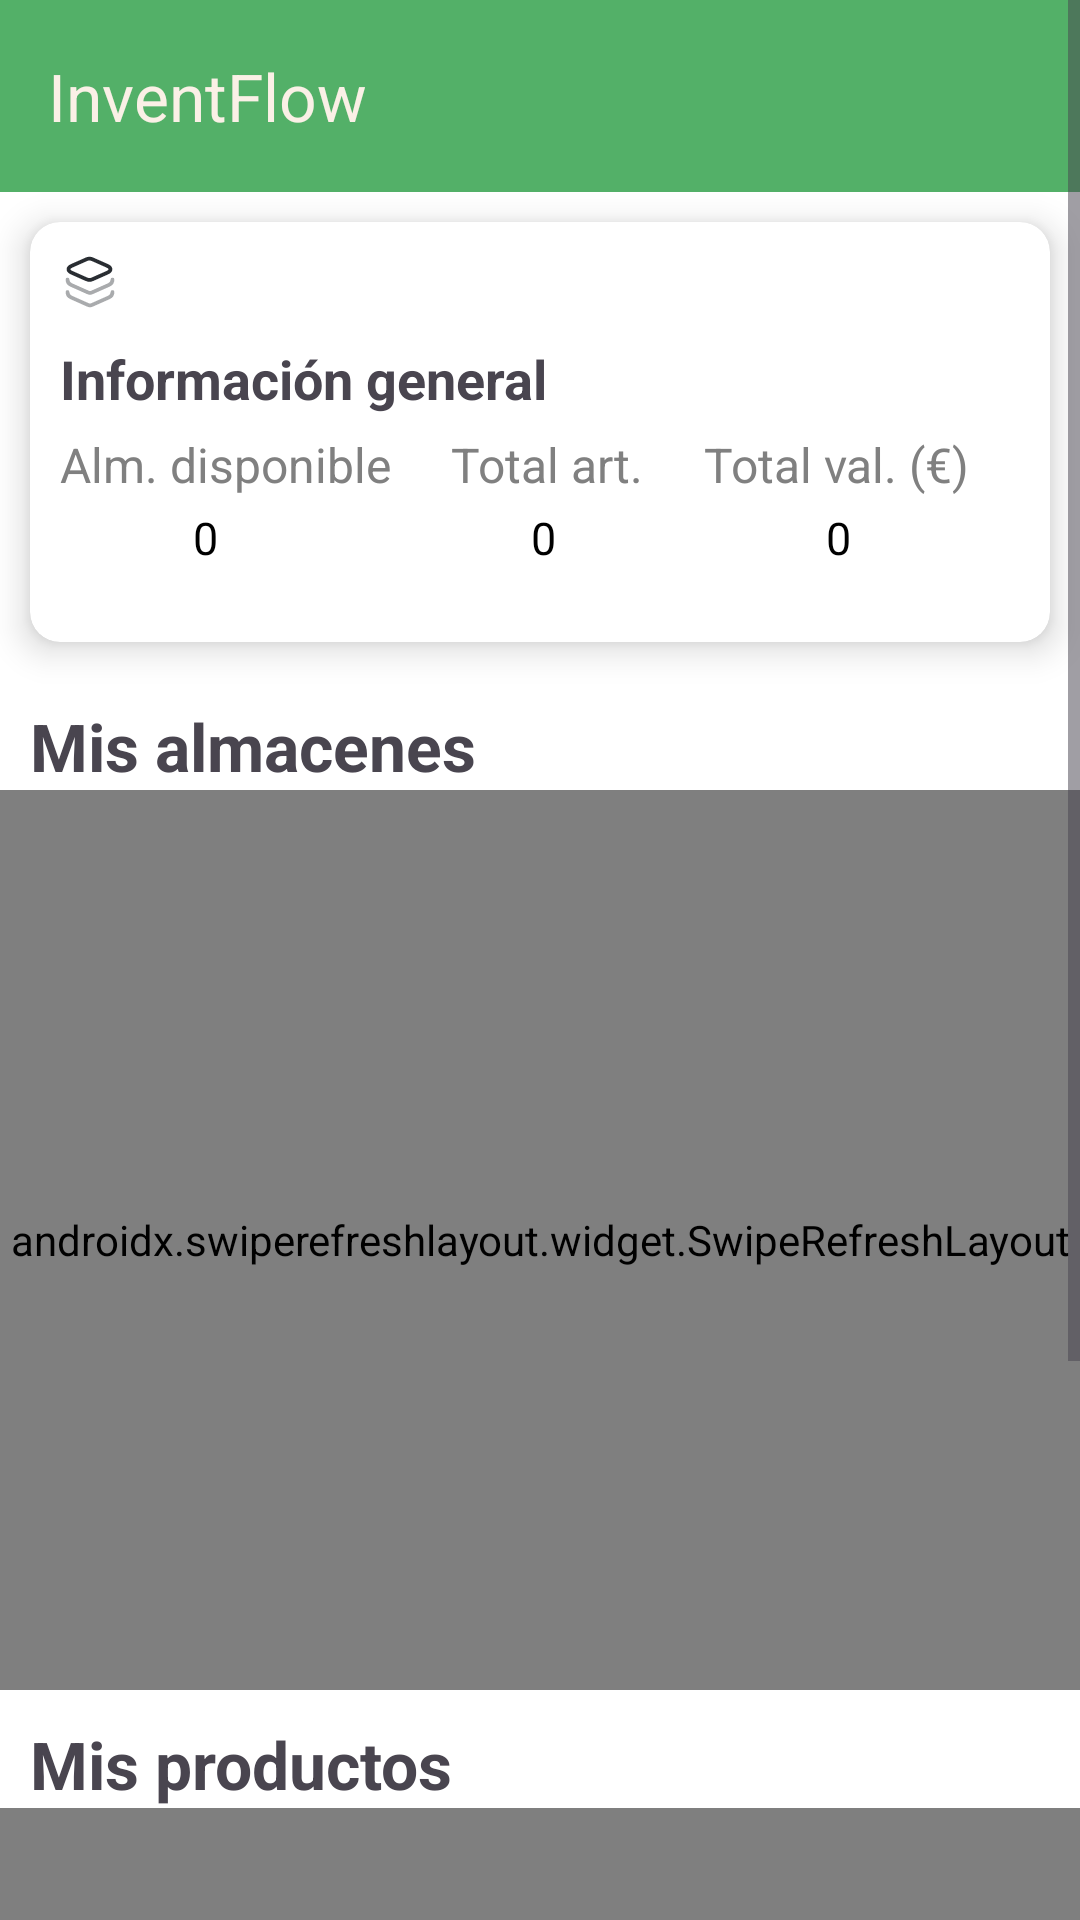

Where to tap for icons on this 1080×1920 app screen, as [x,y]:
layout: [90,281]
